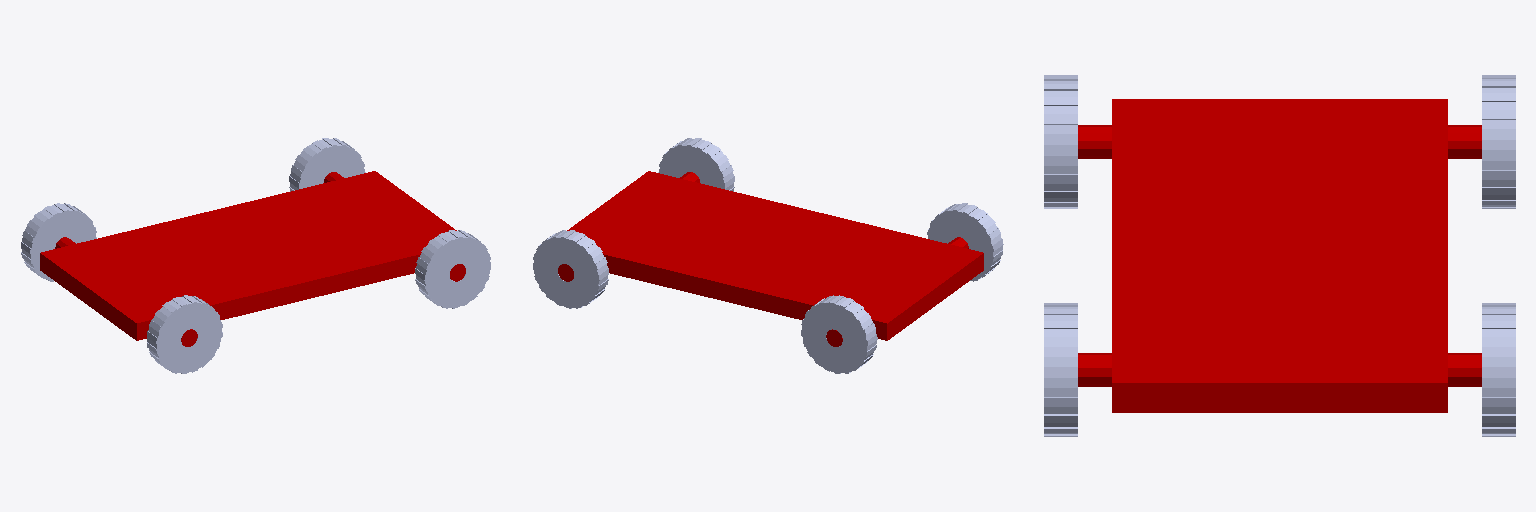
robot.urdf — mobile_robot:
<?xml version="1.0" encoding="utf-8"?>
<!-- This URDF was automatically created by SolidWorks to URDF Exporter! Originally created by [author] ([email redacted]) 
     Commit Version: 1.6.0-1-g15f4949  Build Version: 1.6.7594.29634
     For more information, please see http://wiki.ros.org/sw_urdf_exporter -->
<robot
  name="mobile_robot">
  <link
    name="base_link">
    <inertial>
      <origin
        xyz="-1.0265E-18 -5.1424E-18 0.005"
        rpy="0 0 0" />
      <mass
        value="0.20628" />
      <inertia
        ixx="0.0001912"
        ixy="5.3767E-20"
        ixz="-2.1198E-21"
        iyy="0.00070862"
        iyz="-7.5549E-22"
        izz="0.00089641" />
    </inertial>
    <visual>
      <origin
        xyz="0 0 0"
        rpy="0 0 0" />
      <geometry>
        <mesh
          filename="package://mobile_robot/meshes/base_link.STL" />
      </geometry>
      <material
        name="">
        <color
          rgba="0.8 0 0 1" />
      </material>
    </visual>
    <collision>
      <origin
        xyz="0 0 0"
        rpy="0 0 0" />
      <geometry>
        <mesh
          filename="package://mobile_robot/meshes/base_link.STL" />
      </geometry>
    </collision>
  </link>
  <link
    name="FL_link">
    <inertial>
      <origin
        xyz="0 -3.4694E-18 0.005"
        rpy="0 0 0" />
      <mass
        value="0.011471" />
      <inertia
        ixx="1.2868E-06"
        ixy="2.6334E-22"
        ixz="1.6168E-23"
        iyy="1.2868E-06"
        iyz="-1.1491E-23"
        izz="2.3824E-06" />
    </inertial>
    <visual>
      <origin
        xyz="0 0 0"
        rpy="0 0 0" />
      <geometry>
        <mesh
          filename="package://mobile_robot/meshes/FL_link.STL" />
      </geometry>
      <material
        name="">
        <color
          rgba="0.79216 0.81961 0.93333 1" />
      </material>
    </visual>
    <collision>
      <origin
        xyz="0 0 0"
        rpy="0 0 0" />
      <geometry>
        <mesh
          filename="package://mobile_robot/meshes/FL_link.STL" />
      </geometry>
    </collision>
  </link>
  <joint
    name="FL_Jnt"
    type="continuous">
    <origin
      xyz="0.08 0.06 0.005"
      rpy="1.5708 0 3.1416" />
    <parent
      link="base_link" />
    <child
      link="FL_link" />
    <axis
      xyz="0 0 1" />
    <limit
      lower="0"
      upper="0"
      effort="0"
      velocity="0" />
  </joint>
  <link
    name="FR_Link">
    <inertial>
      <origin
        xyz="0 -8.6736E-19 -0.005"
        rpy="0 0 0" />
      <mass
        value="0.011471" />
      <inertia
        ixx="1.2868E-06"
        ixy="1.8741E-22"
        ixz="1.1862E-23"
        iyy="1.2868E-06"
        iyz="7.876E-25"
        izz="2.3824E-06" />
    </inertial>
    <visual>
      <origin
        xyz="0 0 0"
        rpy="0 0 0" />
      <geometry>
        <mesh
          filename="package://mobile_robot/meshes/FR_Link.STL" />
      </geometry>
      <material
        name="">
        <color
          rgba="0.79216 0.81961 0.93333 1" />
      </material>
    </visual>
    <collision>
      <origin
        xyz="0 0 0"
        rpy="0 0 0" />
      <geometry>
        <mesh
          filename="package://mobile_robot/meshes/FR_Link.STL" />
      </geometry>
    </collision>
  </link>
  <joint
    name="FR_Jnt"
    type="continuous">
    <origin
      xyz="0.08 -0.06 0.005"
      rpy="1.5708 0 3.1416" />
    <parent
      link="base_link" />
    <child
      link="FR_Link" />
    <axis
      xyz="0 0 -1" />
    <limit
      lower="0"
      upper="0"
      effort="0"
      velocity="0" />
  </joint>
  <link
    name="BL_Link">
    <inertial>
      <origin
        xyz="1.3878E-17 -1.7347E-18 0.005"
        rpy="0 0 0" />
      <mass
        value="0.011471" />
      <inertia
        ixx="1.2868E-06"
        ixy="2.8757E-22"
        ixz="9.0271E-24"
        iyy="1.2868E-06"
        iyz="-1.1249E-23"
        izz="2.3824E-06" />
    </inertial>
    <visual>
      <origin
        xyz="0 0 0"
        rpy="0 0 0" />
      <geometry>
        <mesh
          filename="package://mobile_robot/meshes/BL_Link.STL" />
      </geometry>
      <material
        name="">
        <color
          rgba="0.79216 0.81961 0.93333 1" />
      </material>
    </visual>
    <collision>
      <origin
        xyz="0 0 0"
        rpy="0 0 0" />
      <geometry>
        <mesh
          filename="package://mobile_robot/meshes/BL_Link.STL" />
      </geometry>
    </collision>
  </link>
  <joint
    name="BL_Jnt"
    type="continuous">
    <origin
      xyz="-0.08 0.06 0.005"
      rpy="1.5708 0 3.1416" />
    <parent
      link="base_link" />
    <child
      link="BL_Link" />
    <axis
      xyz="0 0 1" />
    <limit
      lower="0"
      upper="0"
      effort="0"
      velocity="0" />
  </joint>
  <link
    name="BR_Link">
    <inertial>
      <origin
        xyz="5.5511E-17 2.0817E-17 -0.005"
        rpy="0 0 0" />
      <mass
        value="0.011471" />
      <inertia
        ixx="1.2868E-06"
        ixy="4.2352E-22"
        ixz="8.6885E-24"
        iyy="1.2868E-06"
        iyz="7.6204E-24"
        izz="2.3824E-06" />
    </inertial>
    <visual>
      <origin
        xyz="0 0 0"
        rpy="0 0 0" />
      <geometry>
        <mesh
          filename="package://mobile_robot/meshes/BR_Link.STL" />
      </geometry>
      <material
        name="">
        <color
          rgba="0.79216 0.81961 0.93333 1" />
      </material>
    </visual>
    <collision>
      <origin
        xyz="0 0 0"
        rpy="0 0 0" />
      <geometry>
        <mesh
          filename="package://mobile_robot/meshes/BR_Link.STL" />
      </geometry>
    </collision>
  </link>
  <joint
    name="BR_Jnt"
    type="continuous">
    <origin
      xyz="-0.08 -0.06 0.005"
      rpy="1.5708 0.55203 3.1416" />
    <parent
      link="base_link" />
    <child
      link="BR_Link" />
    <axis
      xyz="0 0 -1" />
    <limit
      lower="0"
      upper="0"
      effort="0"
      velocity="0" />
  </joint>

<gazebo>
  <plugin name="differential_drive_controller" filename="libgazebo_ros_diff_drive.so">

    <!-- Plugin update rate in Hz -->
    <updateRate>100</updateRate>

    <!-- Name of left joint, defaults to `left_joint` -->
    <leftJoint>FL_Jnt</leftJoint>

    <!-- Name of right joint, defaults to `right_joint` -->
    <rightJoint>FR_Jnt</rightJoint>

    <!-- The distance from the center of one wheel to the other, in meters, defaults to 0.34 m -->
    <!-- <wheelSeparation>0.5380</wheelSeparation> -->

    <!-- Diameter of the wheels, in meters, defaults to 0.15 m -->
    <!-- <wheelDiameter>0.2410</wheelDiameter> -->

    <!-- Wheel acceleration, in rad/s^2, defaults to 0.0 rad/s^2 -->
    <wheelAcceleration>1.0</wheelAcceleration>

    <!-- Maximum torque which the wheels can produce, in Nm, defaults to 5 Nm -->
    <wheelTorque>20</wheelTorque>

    <!-- Topic to receive geometry_msgs/Twist message commands, defaults to `cmd_vel` -->
    <commandTopic>cmd_vel</commandTopic>

    <!-- Topic to publish nav_msgs/Odometry messages, defaults to `odom` -->
    <odometryTopic>odom</odometryTopic>

    <!-- Odometry frame, defaults to `odom` -->
    <odometryFrame>odom</odometryFrame>

    <!-- Robot frame to calculate odometry from, defaults to `base_footprint` -->
    <robotBaseFrame>base_footprint</robotBaseFrame>

    <!-- Odometry source, 0 for ENCODER, 1 for WORLD, defaults to WORLD -->
    <odometrySource>1</odometrySource>

    <!-- Set to true to publish transforms for the wheel links, defaults to false -->
    <publishWheelTF>true</publishWheelTF>

    <!-- Set to true to publish transforms for the odometry, defaults to true -->
    <publishOdom>true</publishOdom>

    <!-- Set to true to publish sensor_msgs/JointState on /joint_states for the wheel joints, defaults to false -->
    <publishWheelJointState>true</publishWheelJointState>

    <!-- Set to true to swap right and left wheels, defaults to true -->
    <legacyMode>false</legacyMode>
  </plugin>
</gazebo>

<gazebo>
  <plugin name="differential_drive_controller" filename="libgazebo_ros_diff_drive.so">

    <!-- Plugin update rate in Hz -->
    <updateRate>100</updateRate>

    <!-- Name of left joint, defaults to `left_joint` -->
    <leftJoint>BL_Jnt</leftJoint>

    <!-- Name of right joint, defaults to `right_joint` -->
    <rightJoint>BR_Jnt</rightJoint>

    <!-- The distance from the center of one wheel to the other, in meters, defaults to 0.34 m -->
    <!-- <wheelSeparation>0.5380</wheelSeparation> -->

    <!-- Diameter of the wheels, in meters, defaults to 0.15 m -->
    <!-- <wheelDiameter>0.2410</wheelDiameter> -->

    <!-- Wheel acceleration, in rad/s^2, defaults to 0.0 rad/s^2 -->
    <wheelAcceleration>1.0</wheelAcceleration>

    <!-- Maximum torque which the wheels can produce, in Nm, defaults to 5 Nm -->
    <wheelTorque>20</wheelTorque>

    <!-- Topic to receive geometry_msgs/Twist message commands, defaults to `cmd_vel` -->
    <commandTopic>cmd_vel</commandTopic>

    <!-- Topic to publish nav_msgs/Odometry messages, defaults to `odom` -->
    <odometryTopic>odom</odometryTopic>

    <!-- Odometry frame, defaults to `odom` -->
    <odometryFrame>odom</odometryFrame>

    <!-- Robot frame to calculate odometry from, defaults to `base_footprint` -->
    <robotBaseFrame>base_footprint</robotBaseFrame>

    <!-- Odometry source, 0 for ENCODER, 1 for WORLD, defaults to WORLD -->
    <odometrySource>1</odometrySource>

    <!-- Set to true to publish transforms for the wheel links, defaults to false -->
    <publishWheelTF>true</publishWheelTF>

    <!-- Set to true to publish transforms for the odometry, defaults to true -->
    <publishOdom>true</publishOdom>

    <!-- Set to true to publish sensor_msgs/JointState on /joint_states for the wheel joints, defaults to false -->
    <publishWheelJointState>true</publishWheelJointState>

    <!-- Set to true to swap right and left wheels, defaults to true -->
    <legacyMode>false</legacyMode>
  </plugin>
</gazebo>










</robot>

--- Render facts (derived) ---
The picture shows the robot from 3 angles, left to right: view 1: azimuth 30°, elevation 25°; view 2: azimuth 150°, elevation 25°; view 3: azimuth 270°, elevation 25°; orthographic projection.
Robot: mobile_robot — 5 links, 4 joints (4 continuous); root link base_link; default pose: all joints at 0.
Links seen in each view (by area): view 1: base_link, BR_Link, FR_Link, BL_Link, FL_link; view 2: base_link, FL_link, BL_Link, BR_Link, FR_Link; view 3: base_link, FL_link, FR_Link, BL_Link, BR_Link.
Boxes of the visible links, x1,y1,x2,y2 form: base_link: [40, 171, 465, 346]; BR_Link: [147, 295, 222, 373]; FR_Link: [415, 230, 490, 308]; BL_Link: [21, 203, 96, 281]; FL_link: [289, 138, 365, 191]; base_link: [558, 171, 983, 346]; FL_link: [533, 230, 608, 308]; BL_Link: [801, 295, 877, 373]; BR_Link: [927, 203, 1003, 281]; FR_Link: [658, 138, 734, 191]; base_link: [1078, 99, 1481, 412]; FL_link: [1482, 303, 1515, 436]; FR_Link: [1044, 303, 1077, 436]; BL_Link: [1482, 75, 1515, 208]; BR_Link: [1044, 75, 1077, 208].
Bounding box of the posed robot: 0.2 × 0.14 × 0.04 m (x, y, z).
Meshes: 5 distinct files referenced, 5 mesh visuals loaded (5 binary STL).